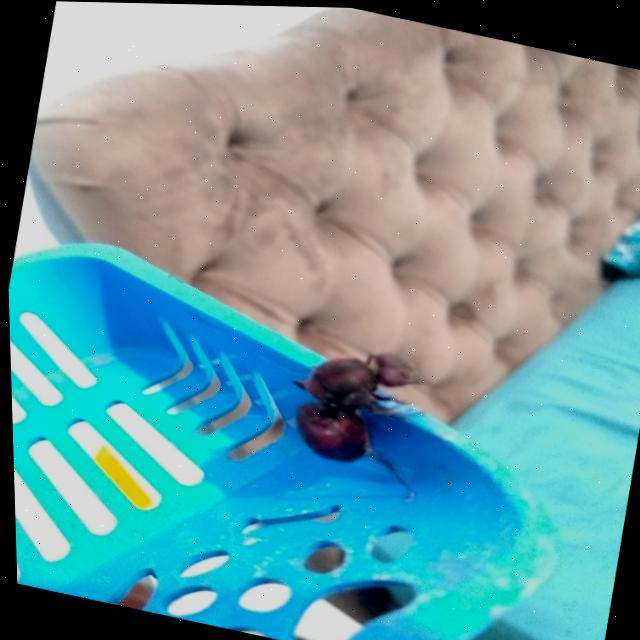Alive-Female-Dealate: (271, 329, 437, 495)
